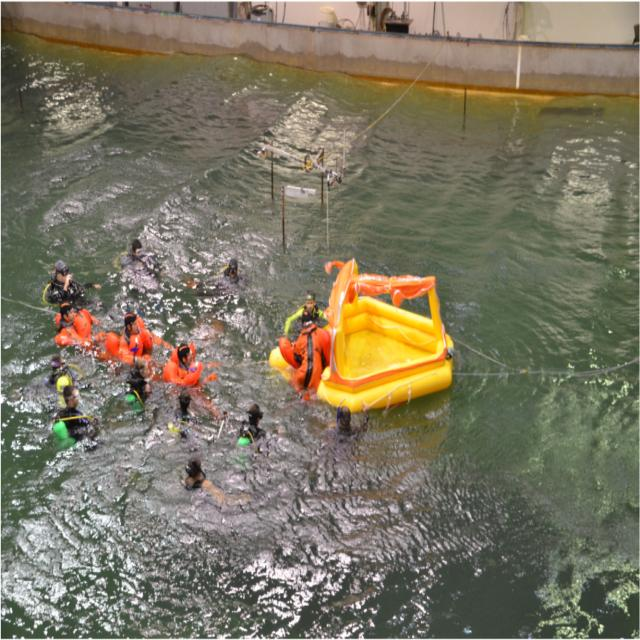Mannequin_wearing_orange-colored_life_preserver_unit_ LPU: (279, 326, 330, 369), (105, 314, 152, 359), (162, 340, 202, 386), (55, 307, 96, 350)
Multi-person_life_raft: (268, 256, 453, 412)
